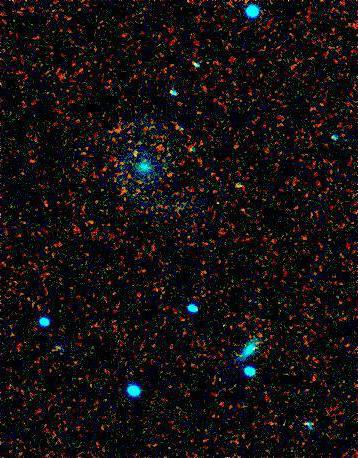star: (121, 140, 151, 170)
